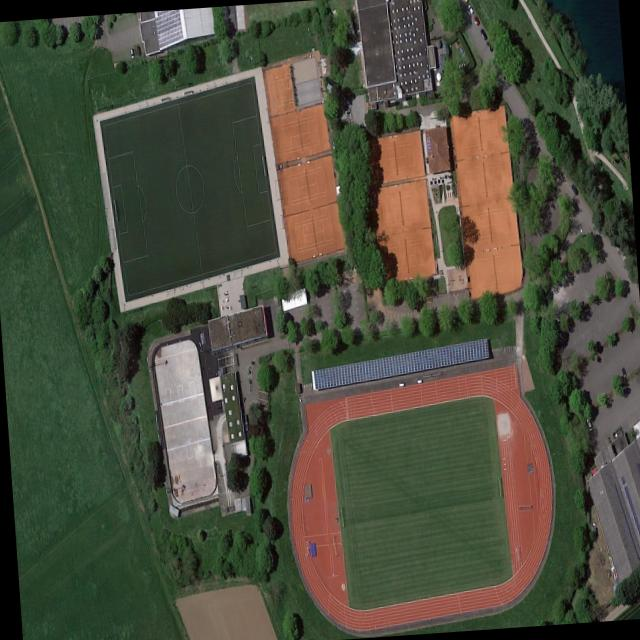small-vehicle: (584, 417, 592, 432), (569, 183, 578, 195), (619, 365, 626, 380), (471, 14, 479, 27), (485, 40, 492, 54), (479, 28, 486, 41), (467, 3, 473, 16), (135, 44, 140, 56), (128, 47, 133, 59), (462, 0, 467, 4)
